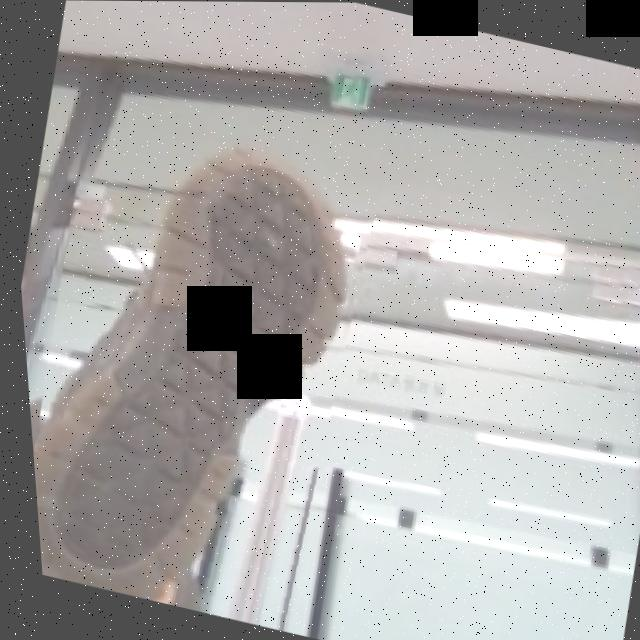shoe: (5, 94, 410, 637)
